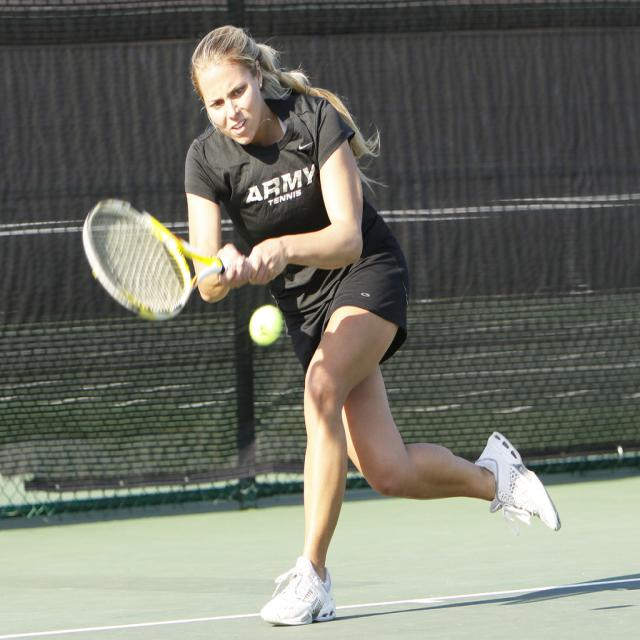Tennis ball: (248, 307, 284, 346)
